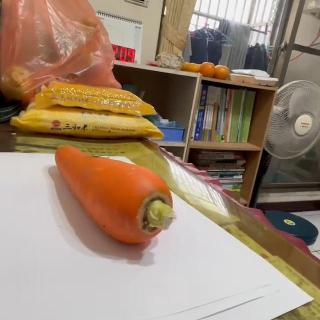carrot: (54, 145, 176, 245)
